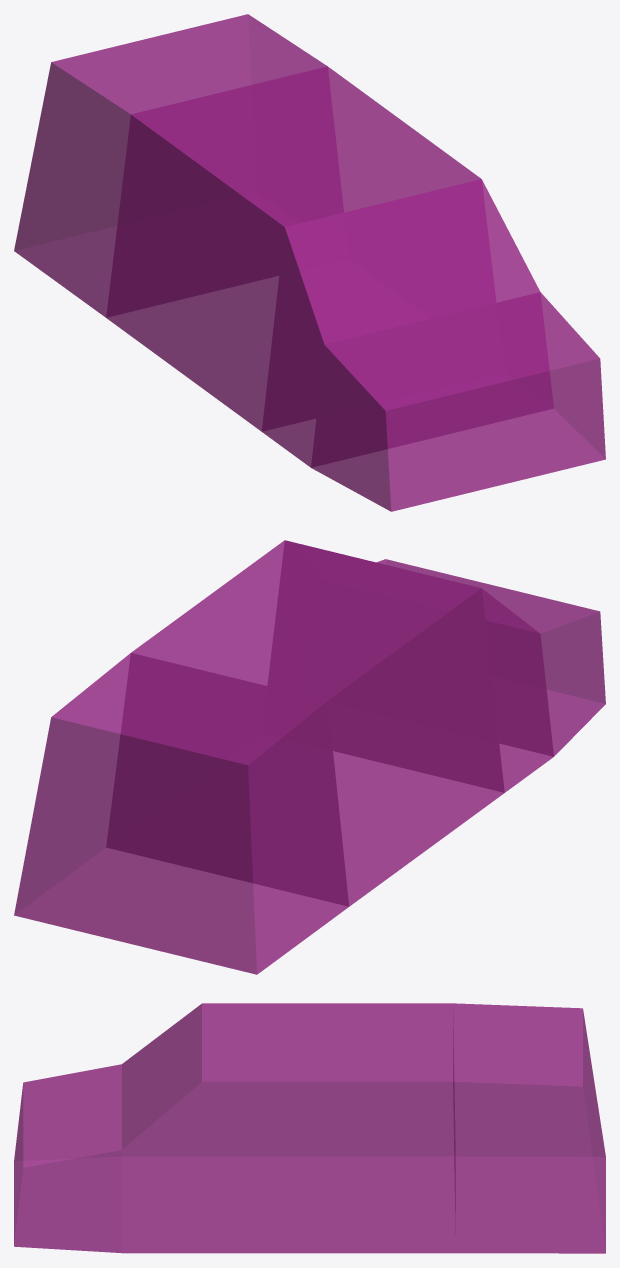
File: SM_Veh_Van_01_Collision.fbx
3 renders of one model, top to bottom at view 1: azimuth 30°, elevation 25°; view 2: azimuth 150°, elevation 25°; view 3: azimuth 270°, elevation 25°, orthographic. The views are drawn at different scales.
Visible parts, largest first — view 1: SM_Veh_Van_01_Collision; view 2: SM_Veh_Van_01_Collision; view 3: SM_Veh_Van_01_Collision.
Boxes of the visible parts, x1,y1,x2,y2 form: SM_Veh_Van_01_Collision: (14, 14, 605, 511); SM_Veh_Van_01_Collision: (14, 540, 605, 974); SM_Veh_Van_01_Collision: (14, 1003, 605, 1253).
Bounding box in the file's own units: 234 × 184 × 606.
